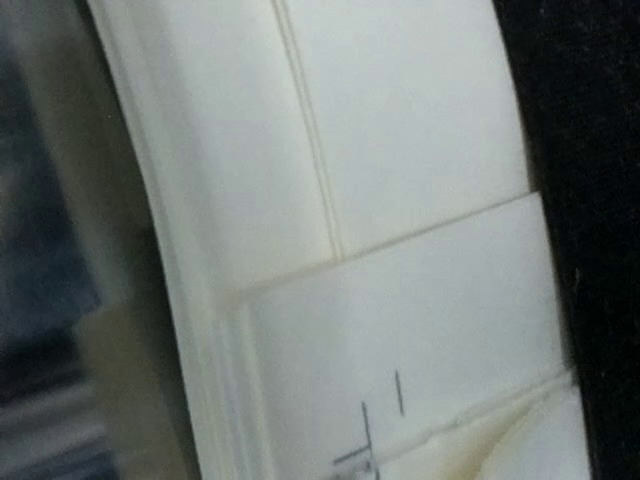misaligned: (322, 399, 380, 480)
